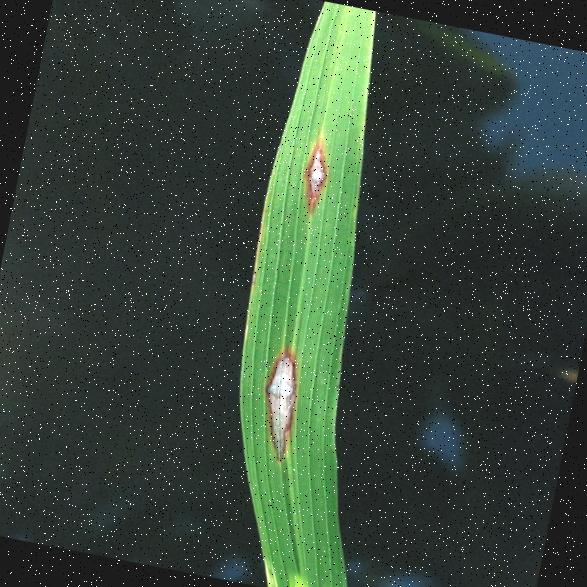Leaf_smut: (239, 341, 326, 474), (276, 126, 343, 220)
